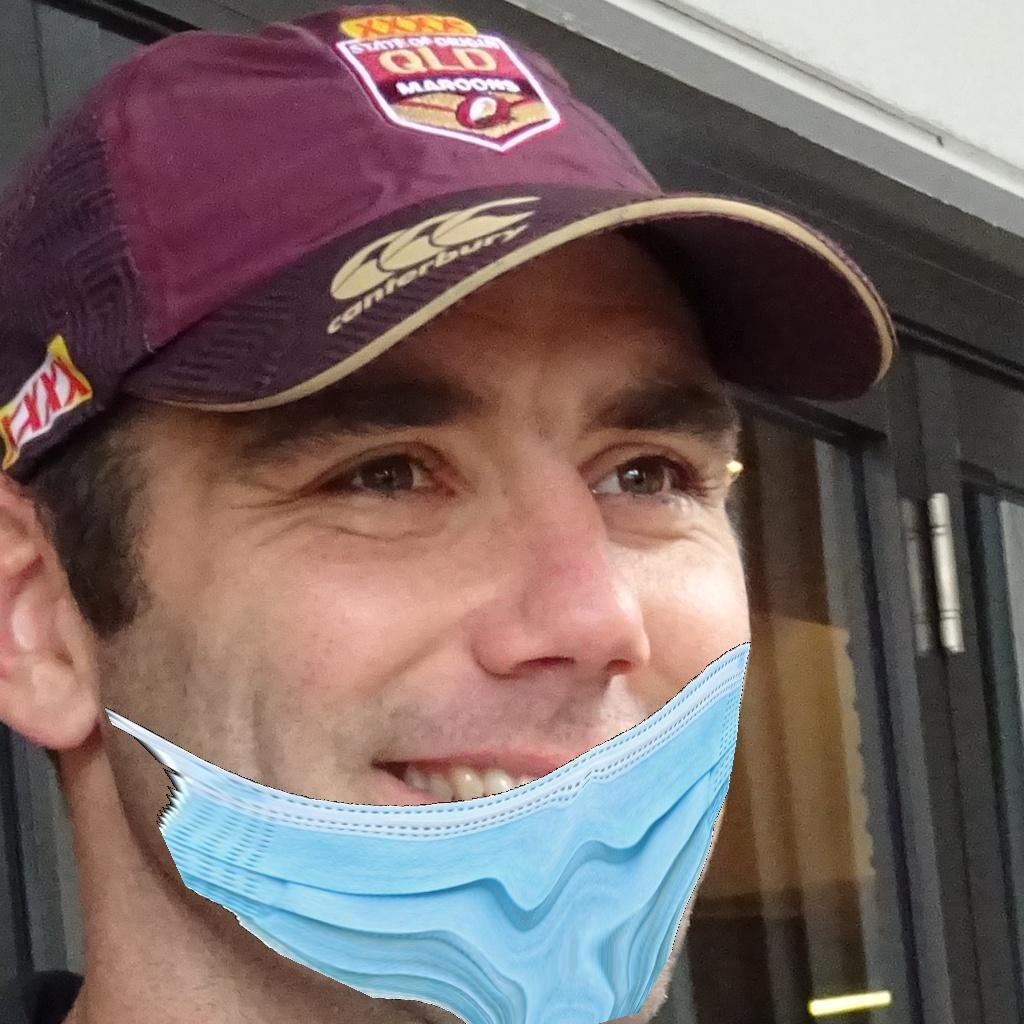Máscara Incorreta: (116, 333, 786, 990)
